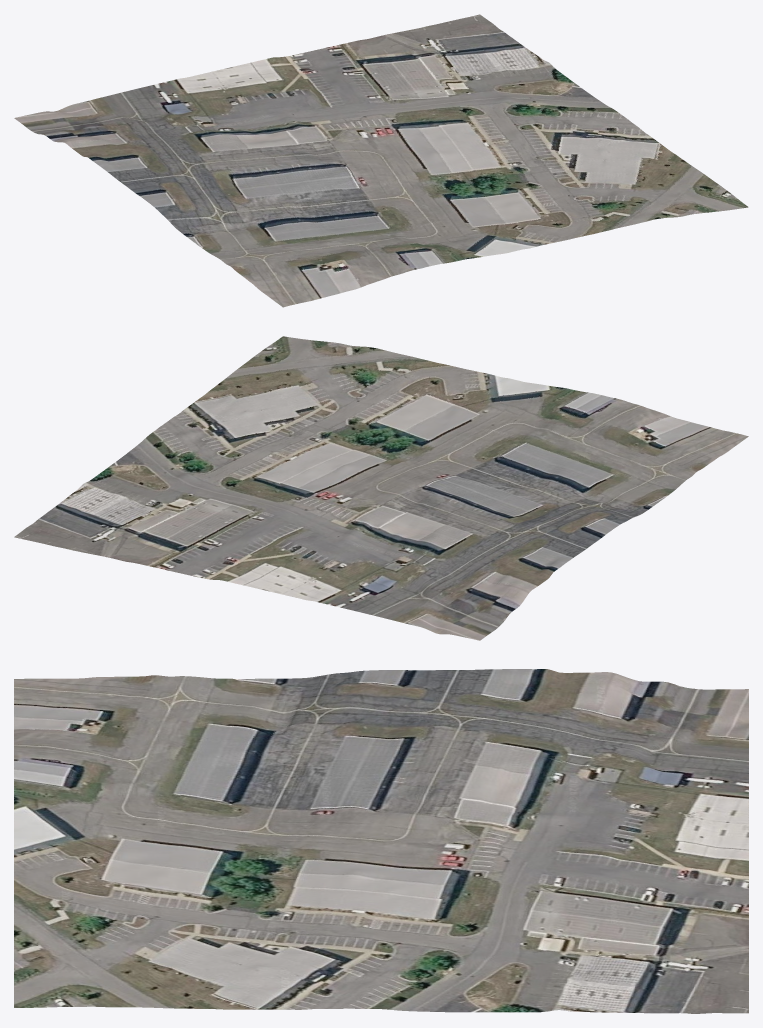
The model's file is terrain.dae.
3 views of the same model, one above another, from view 1: azimuth 30°, elevation 25°; view 2: azimuth 150°, elevation 25°; view 3: azimuth 270°, elevation 25° (orthographic). The views are drawn at different scales.
Visible parts, largest first — view 1: terrain-node; view 2: terrain-node; view 3: terrain-node.
Boxes of the visible parts, x1,y1,x2,y2 form: terrain-node: (14, 14, 748, 307); terrain-node: (14, 336, 748, 640); terrain-node: (14, 669, 748, 1013).
Bounding box in the file's own units: 600 × 600 × 31.92.
